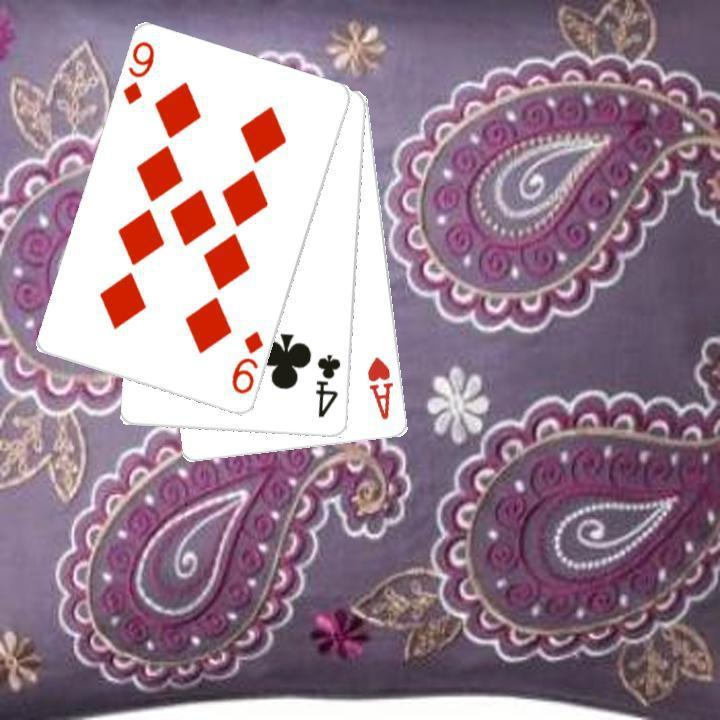4: (312, 351, 343, 420)
9: (227, 327, 266, 397), (119, 37, 157, 107)
A: (363, 353, 396, 422)
